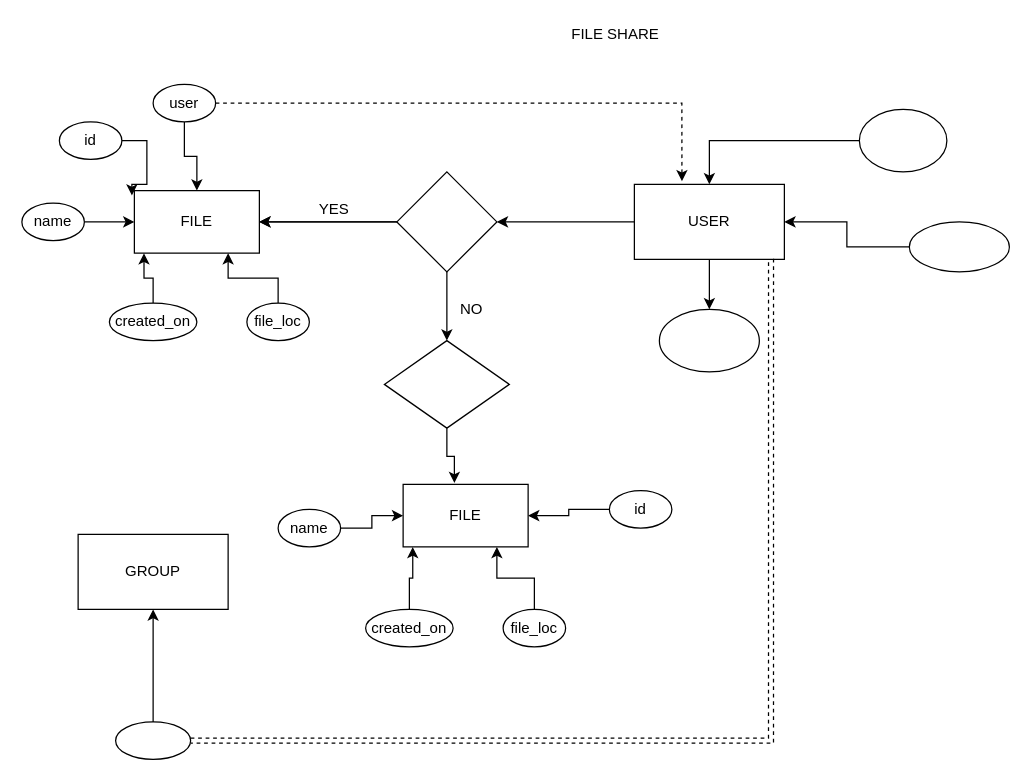
This 1031x781 diagram has some shape labels left out. Here are the shapes that lost their labels. From the top down, the centre of each, then its label:
At [902,140]: "password".
At [446,221]: "LOGIN".
At [958,246]: "email".
At [708,340]: "username".
At [446,383]: "ANONYMOUS".
At [152,740]: "users".
